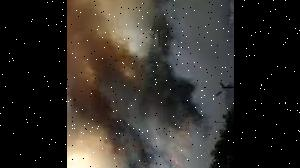fire: (165, 132, 196, 168)
